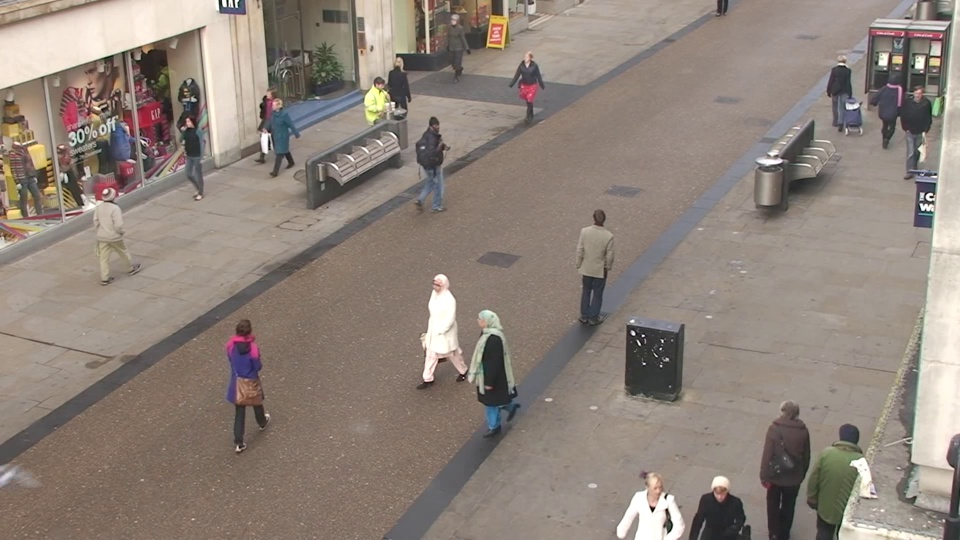pedestrian: (756, 387, 817, 540), (812, 411, 877, 540), (221, 309, 277, 453), (463, 302, 511, 447), (421, 266, 467, 402), (90, 182, 139, 293), (686, 461, 750, 540), (623, 459, 684, 540), (579, 205, 618, 325), (894, 83, 937, 174), (176, 111, 214, 203), (869, 73, 908, 162), (418, 114, 452, 209), (263, 93, 297, 181), (256, 84, 289, 169), (823, 52, 857, 133), (366, 75, 396, 159), (384, 54, 412, 132), (516, 48, 542, 125), (443, 13, 468, 80)
